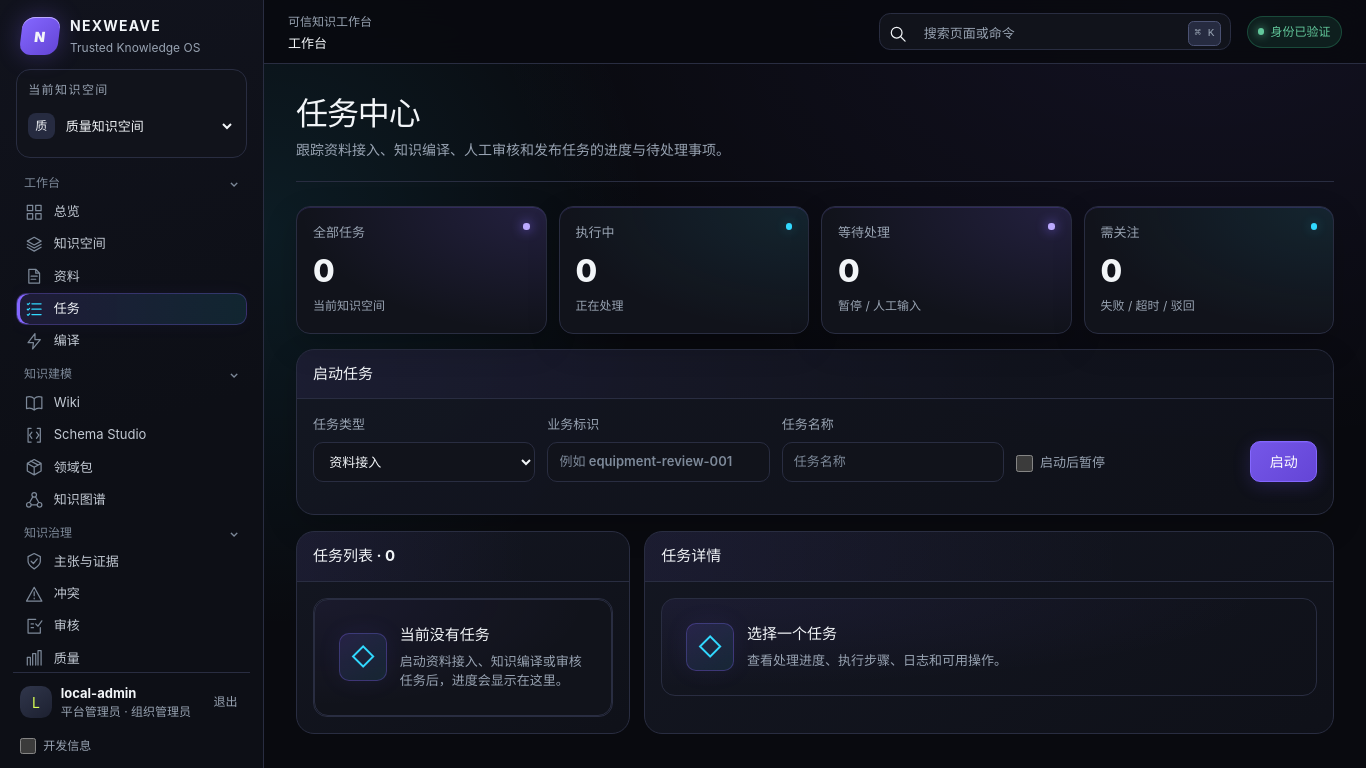
Test: opens the real workflow task center and supports keyboard quick navigation
Expected: the heading "任务中心" is shown, x1=296 y1=94 x2=420 y2=133
Expected: the text "当前没有任务" is shown, x1=400 y1=625 x2=490 y2=644
Press k
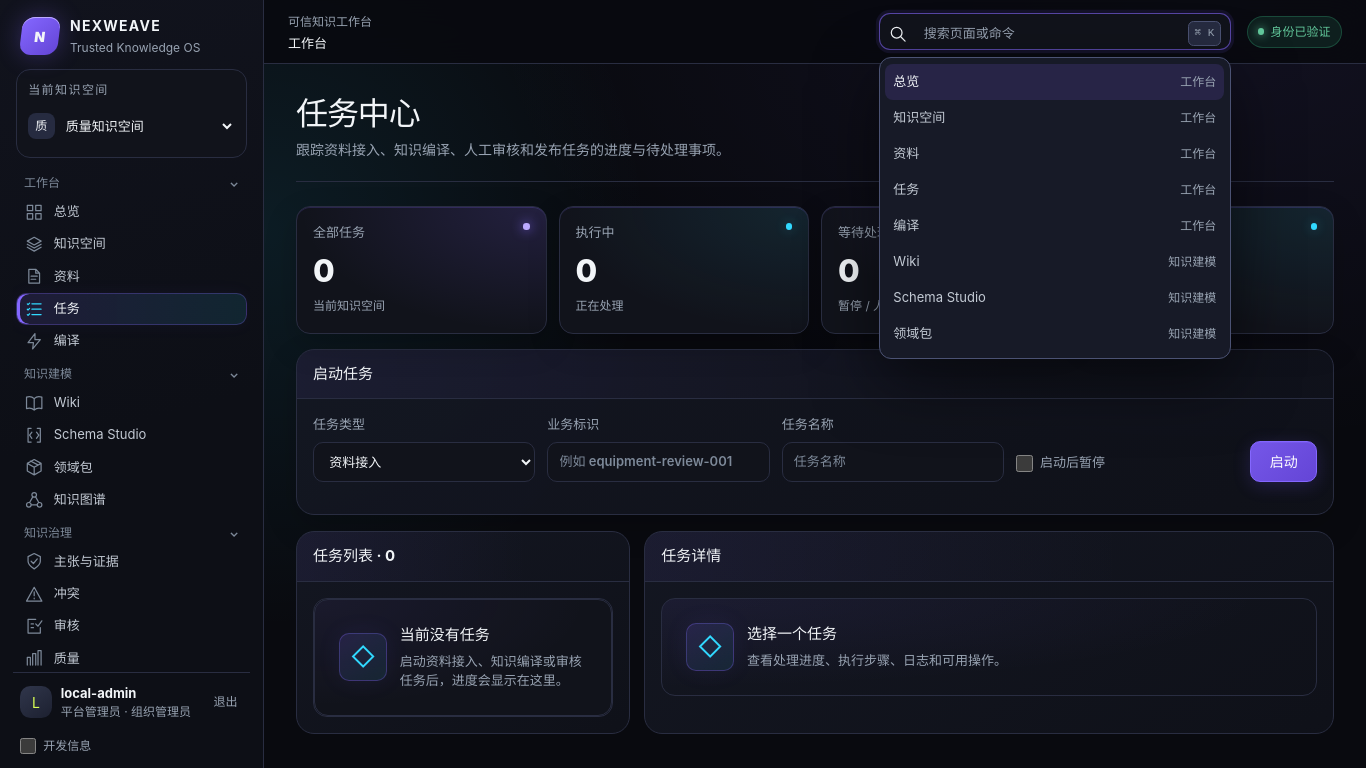
In the dropdown named "快速导航": point(1048, 34) x1=912 y1=14 x2=1183 y2=54, type "Schema"
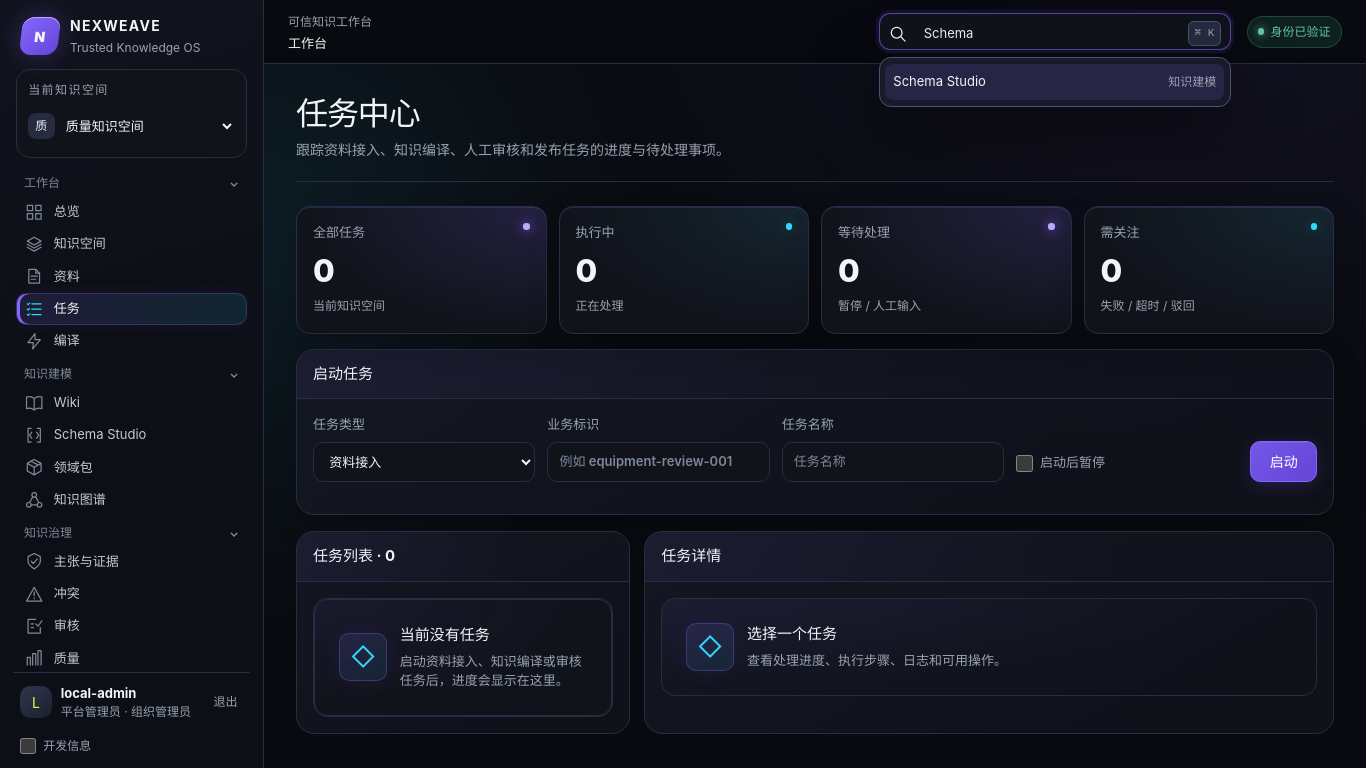
Press Enter in the dropdown named "快速导航", box x1=912 y1=14 x2=1183 y2=54
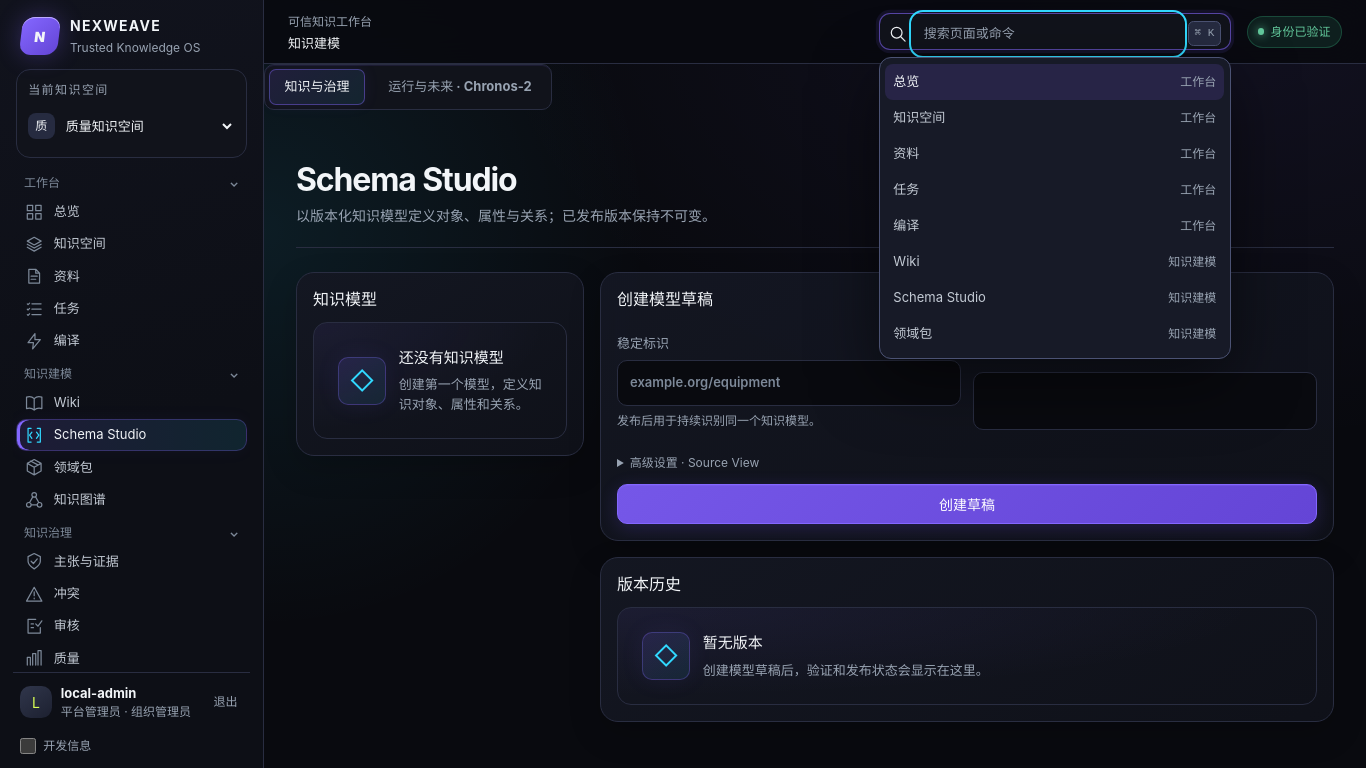
Result: the heading "Schema Studio" is shown at x1=296 y1=160 x2=517 y2=199
